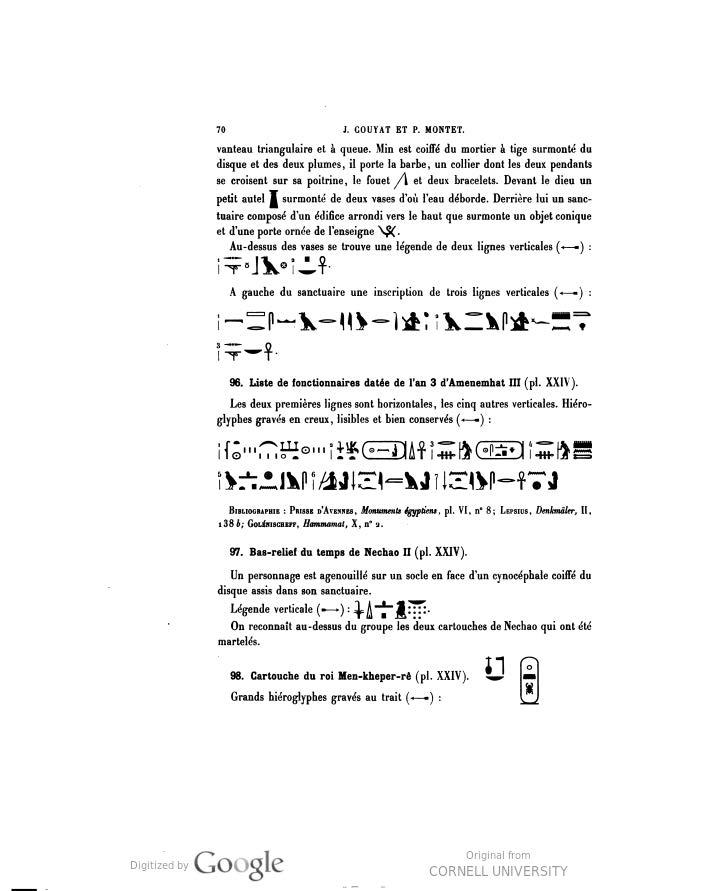circle: (472, 426, 531, 476), (358, 431, 414, 468), (518, 639, 543, 716)
